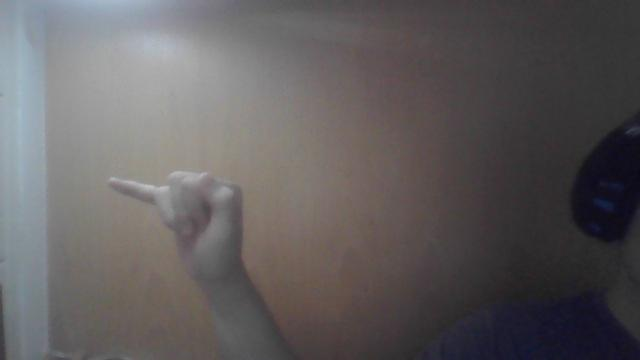Right: (105, 170, 245, 278)
